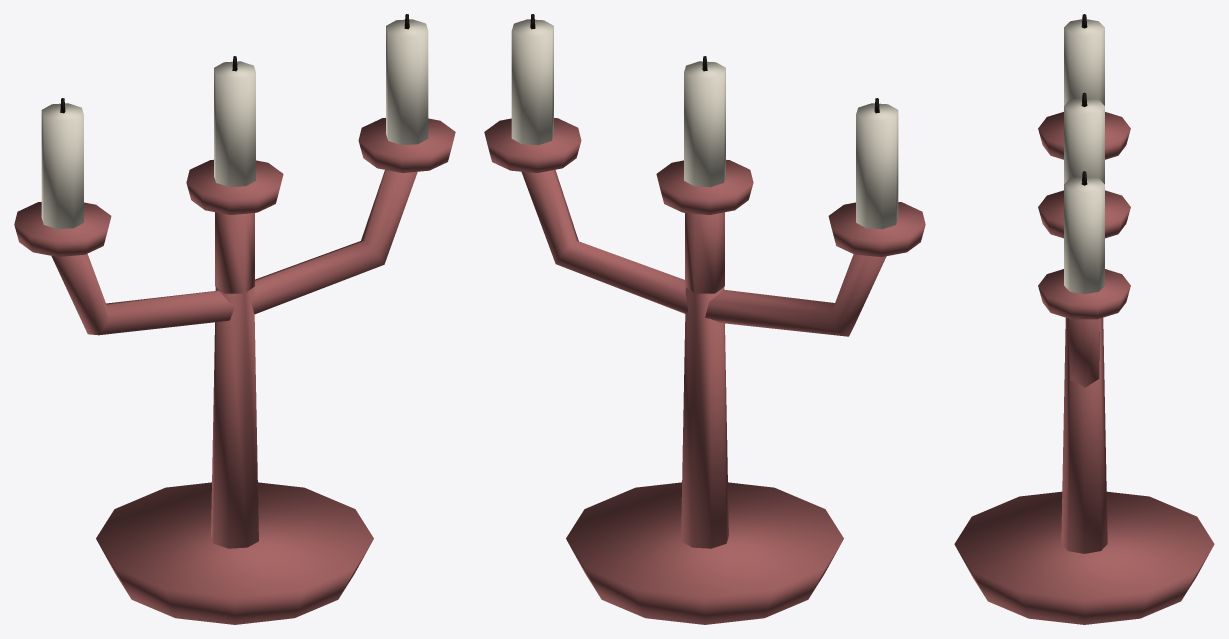
Rendered from shadewood_candelabra_v0.glb.
The picture shows the model from 3 angles, left to right: view 1: azimuth 30°, elevation 25°; view 2: azimuth 150°, elevation 25°; view 3: azimuth 270°, elevation 25°; orthographic projection. The views are drawn at different scales.
Visible parts, largest first — view 1: shadewood_candelabra_v0; view 2: shadewood_candelabra_v0; view 3: shadewood_candelabra_v0.
Boxes of the visible parts, x1,y1,x2,y2 form: shadewood_candelabra_v0: [14, 14, 455, 624]; shadewood_candelabra_v0: [484, 14, 925, 624]; shadewood_candelabra_v0: [954, 14, 1214, 624].
Bounding box in the file's own units: 0.4951 × 0.575 × 0.28.
